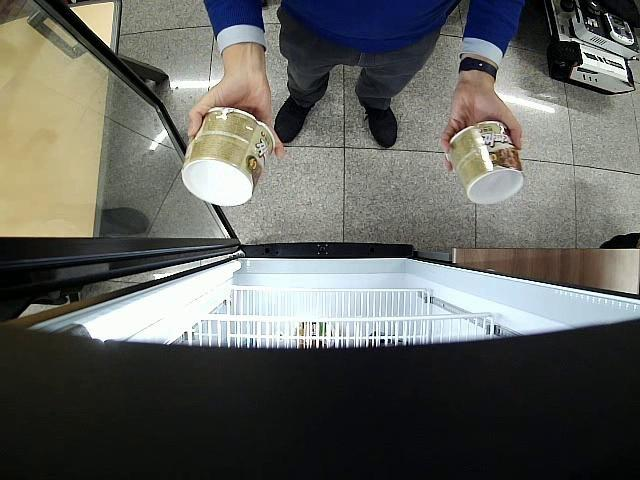03_chapagetti_L: (180, 106, 275, 206), (446, 121, 524, 205)
